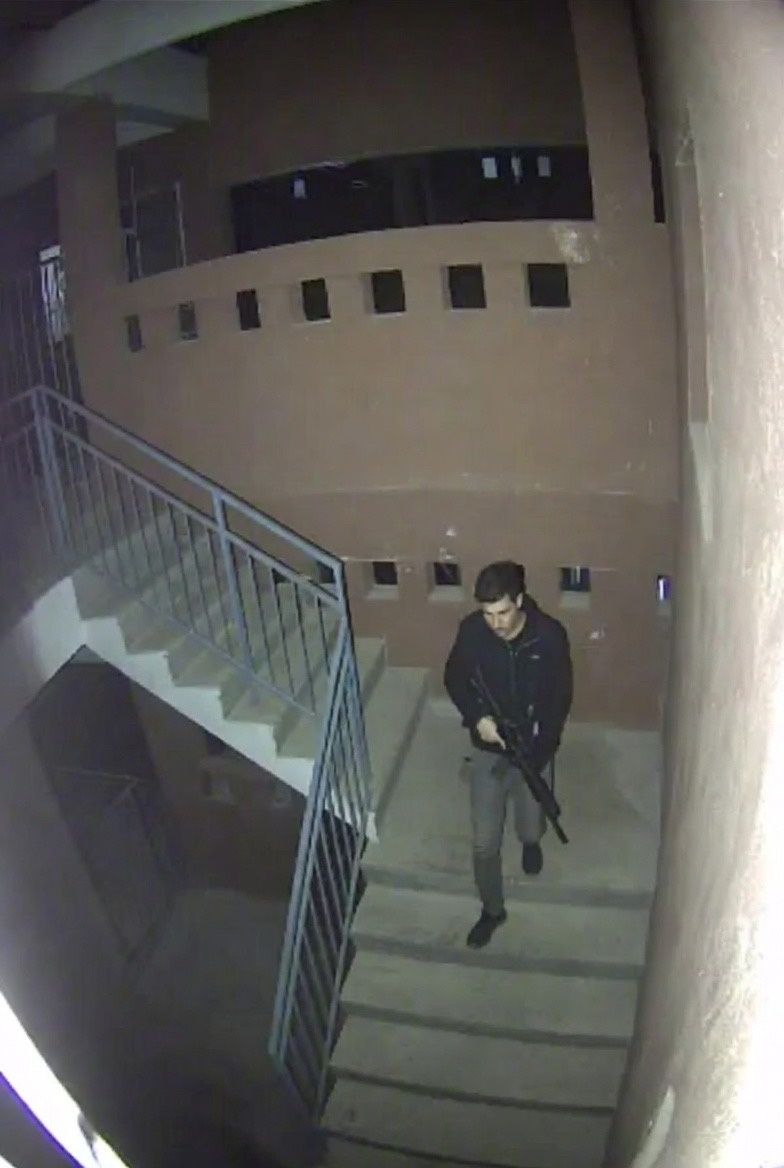gun: (464, 675, 582, 849)
person: (442, 565, 565, 944)
